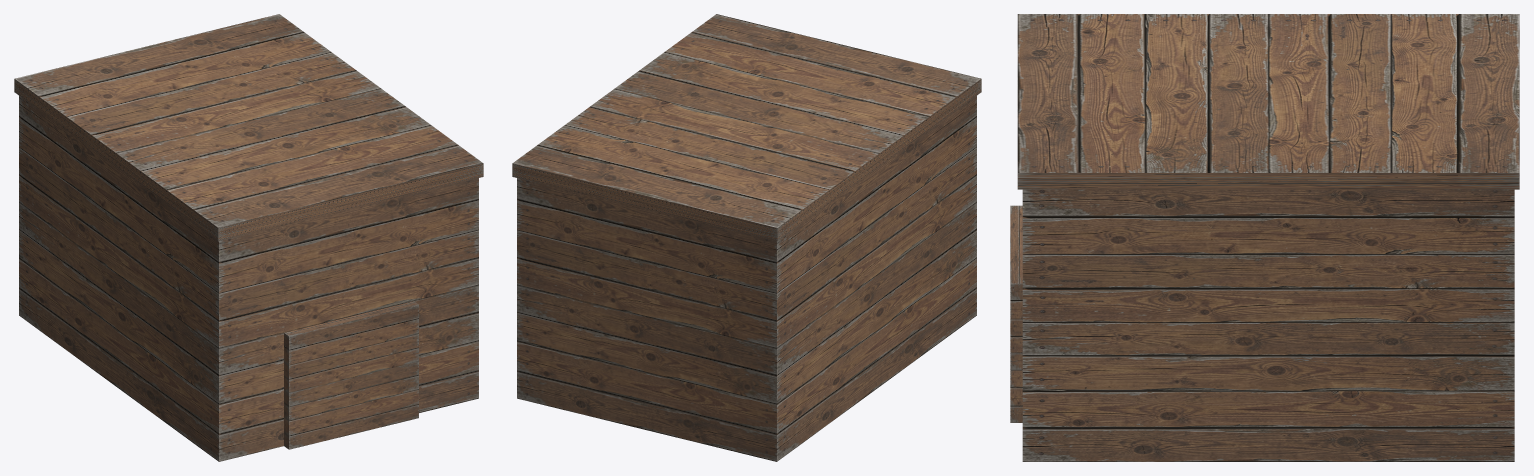
The model's file is storehouse.obj.
The picture shows the model from 3 angles, left to right: view 1: azimuth 30°, elevation 25°; view 2: azimuth 150°, elevation 25°; view 3: azimuth 270°, elevation 25°; orthographic projection. The views are drawn at different scales.
Visible parts, largest first — view 1: building; view 2: building; view 3: building.
Boxes of the visible parts, box(x1,y1,x2,y2) form: building: box(14, 14, 483, 461); building: box(512, 14, 981, 461); building: box(1010, 14, 1519, 461).
Size of the model in its own units: 3.06 by 2.61 by 4.14.
